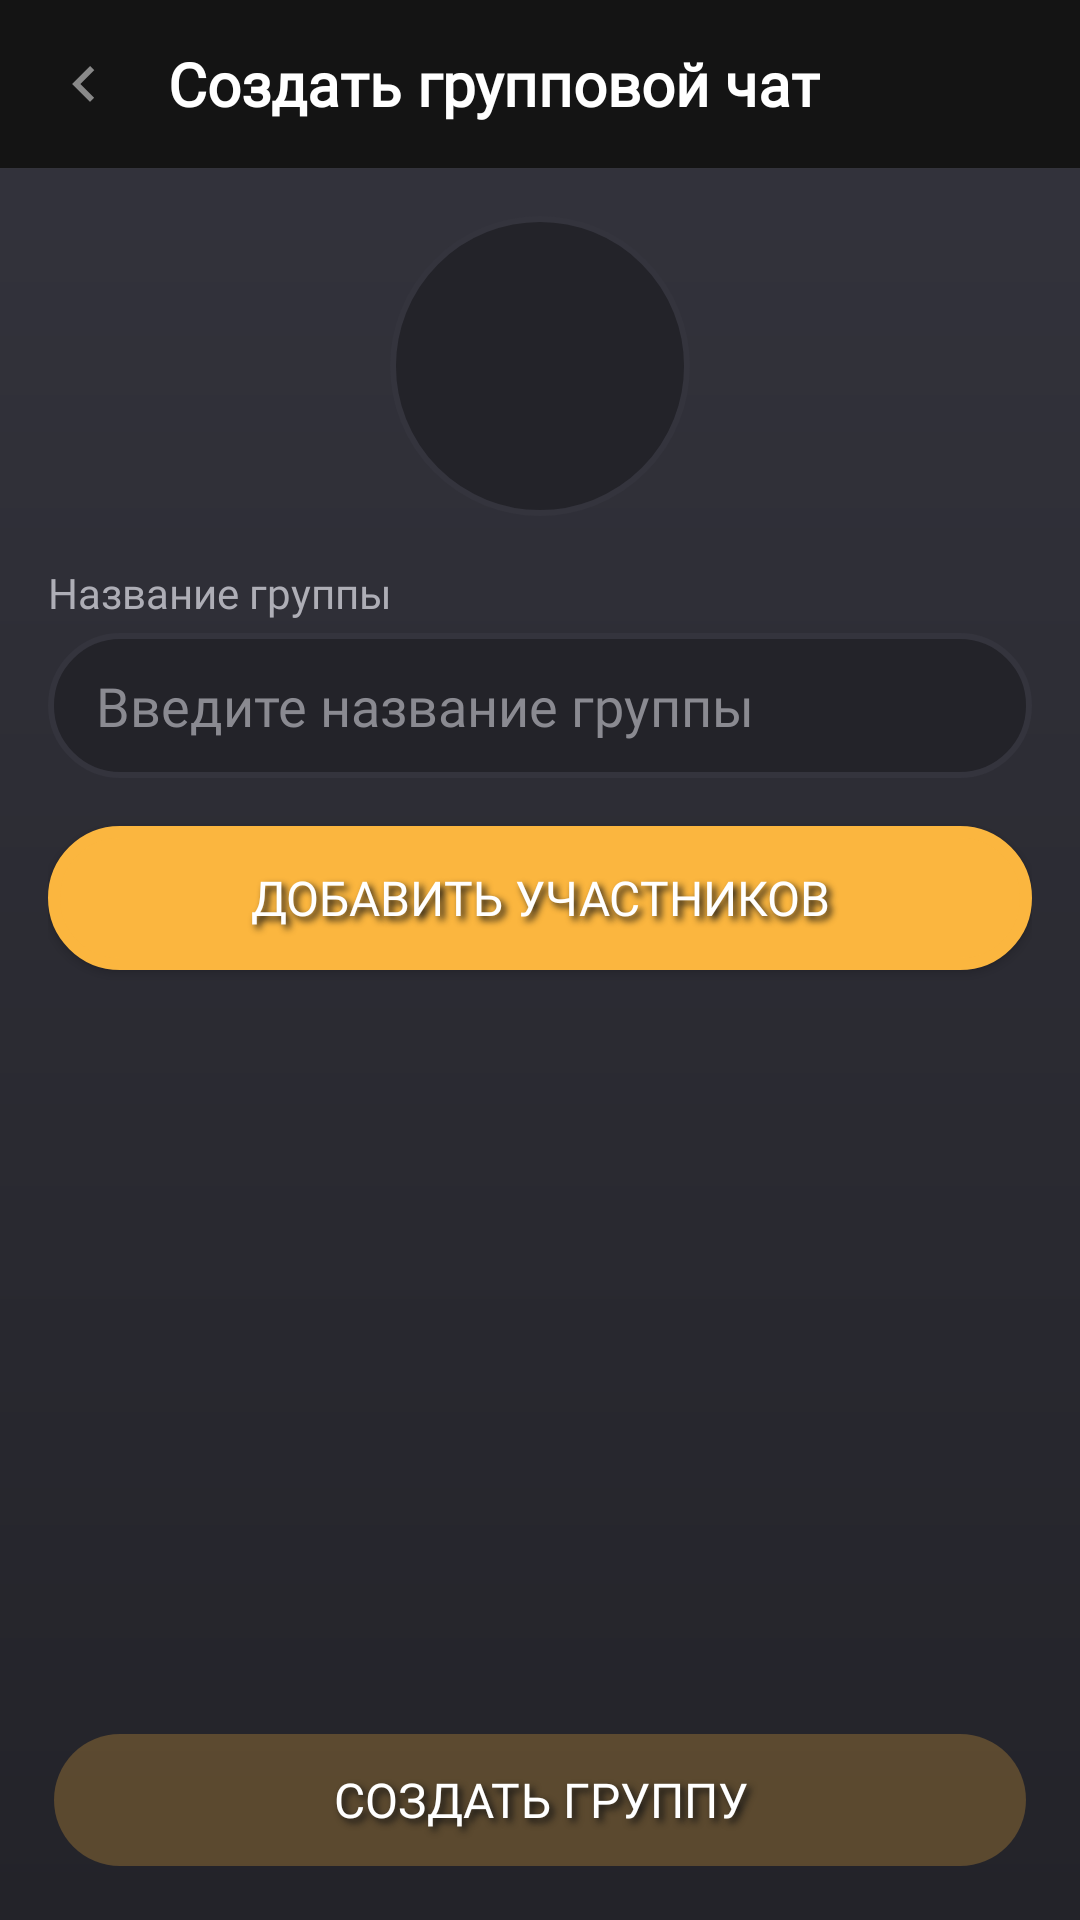

Where to tap for icons on this 1080 x 1920 app screen, as (x=x, y=y):
Назад: (x=83, y=84)
